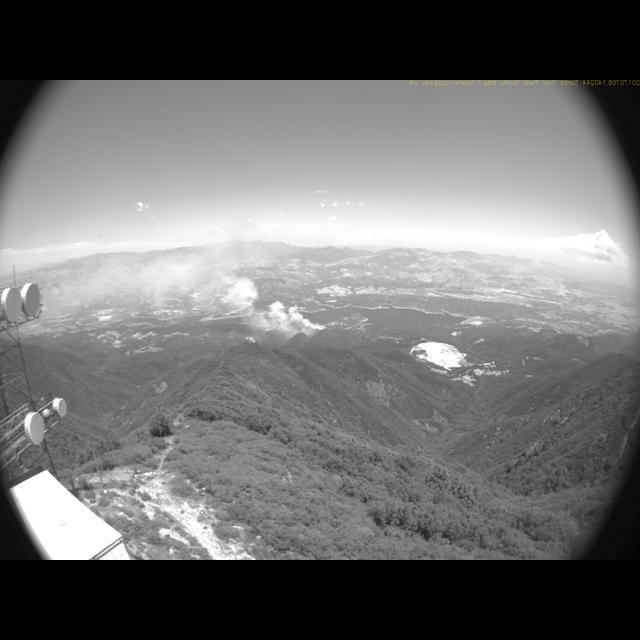Smoke: (102, 237, 326, 338)
